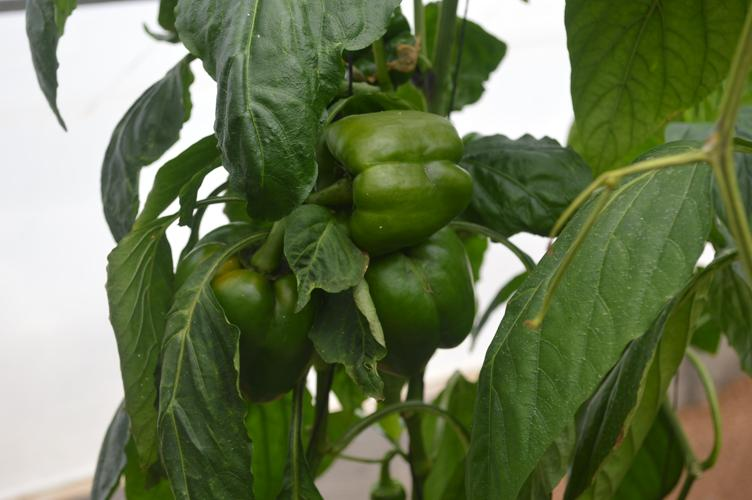BellPepper: (316, 110, 479, 247), (201, 224, 314, 404), (352, 229, 476, 359)
